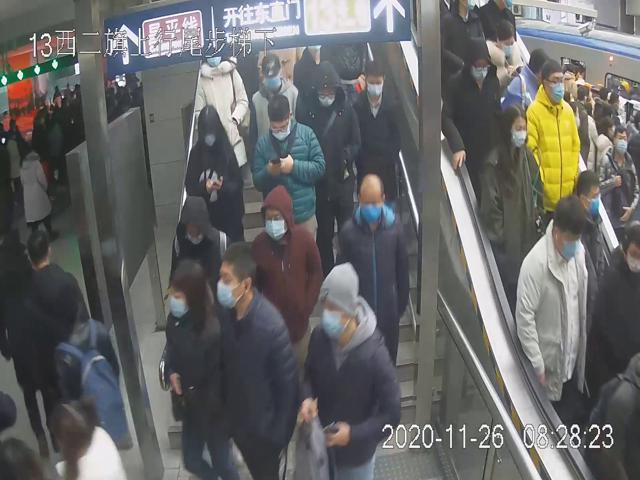person: (300, 258, 401, 480), (216, 238, 298, 480), (511, 194, 593, 428), (335, 171, 411, 370), (156, 255, 221, 480), (476, 102, 543, 309), (302, 59, 364, 269), (248, 185, 326, 348), (251, 92, 324, 264), (182, 101, 247, 259), (524, 56, 579, 223), (345, 60, 402, 212), (168, 194, 233, 292)
